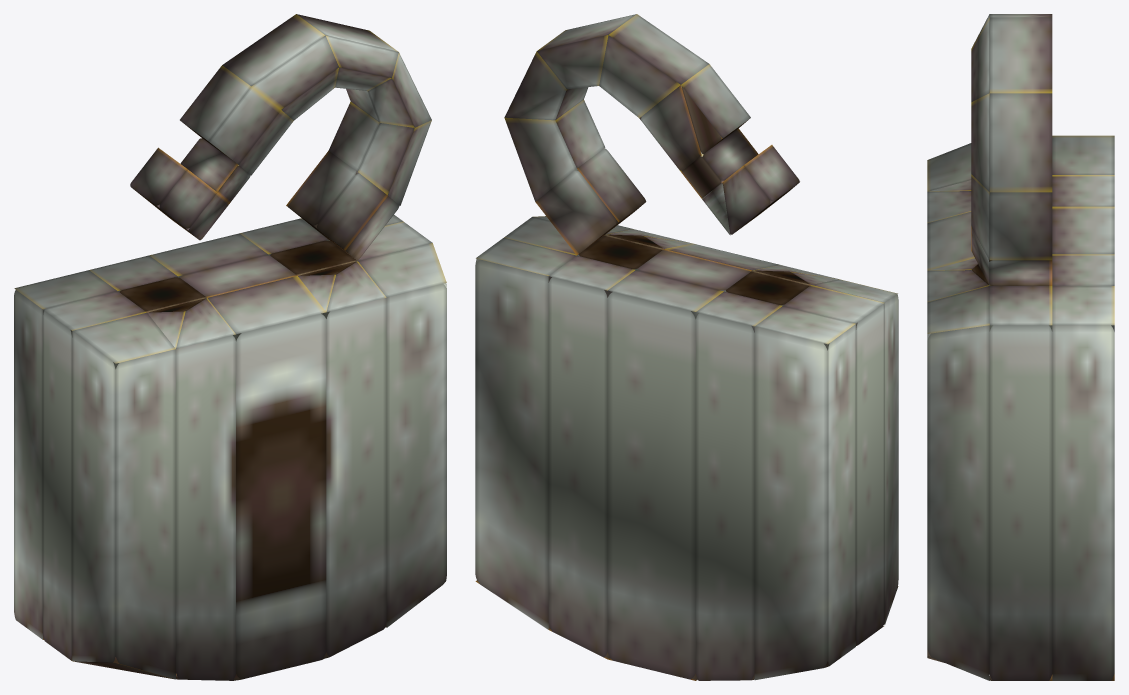
The picture shows the model from 3 angles, left to right: view 1: azimuth 30°, elevation 25°; view 2: azimuth 150°, elevation 25°; view 3: azimuth 270°, elevation 25°; orthographic projection. The views are drawn at different scales.
Visible parts, largest first — view 1: T1L2M005_19; view 2: T1L2M005_19; view 3: T1L2M005_19.
Part boxes in pixels (box(x1,y1,x2,y2)): T1L2M005_19: box(14, 14, 446, 680); T1L2M005_19: box(475, 14, 898, 680); T1L2M005_19: box(927, 14, 1114, 680).
Size of the model in its own units: 0.4795 by 0.7764 by 0.2002.
